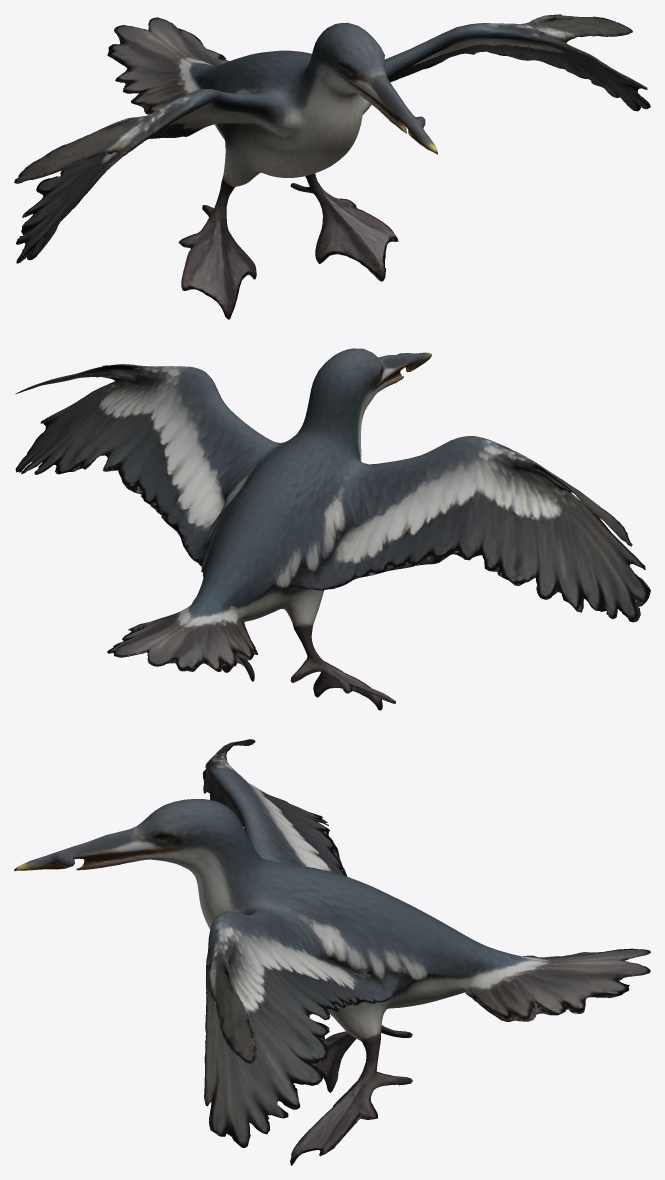
3 renders of one model, top to bottom at view 1: azimuth 30°, elevation 25°; view 2: azimuth 150°, elevation 25°; view 3: azimuth 270°, elevation 25°, orthographic. The views are drawn at different scales.
Visible parts, largest first — view 1: geometry_0; view 2: geometry_0; view 3: geometry_0.
Part boxes in pixels (box(x1,y1,x2,y2)): geometry_0: box(14, 14, 650, 319); geometry_0: box(15, 348, 650, 710); geometry_0: box(14, 739, 650, 1165).
Bounding box in the file's own units: 0.4124 × 0.1934 × 0.3439.
1 material, 1 textured.
